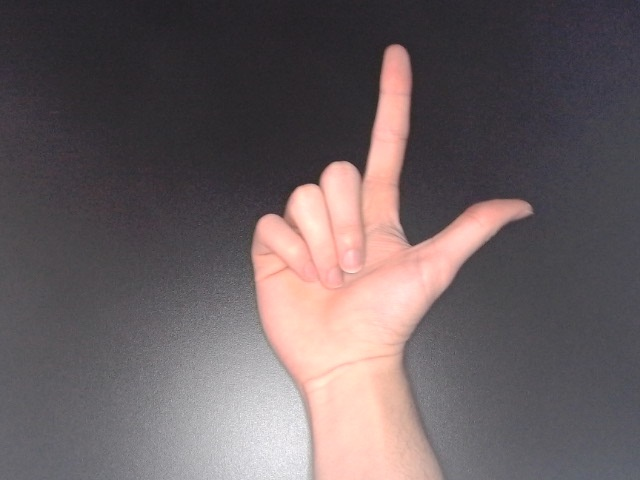l: (240, 39, 540, 403)
